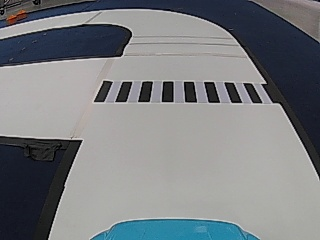CrossWalk: (90, 78, 268, 105)
